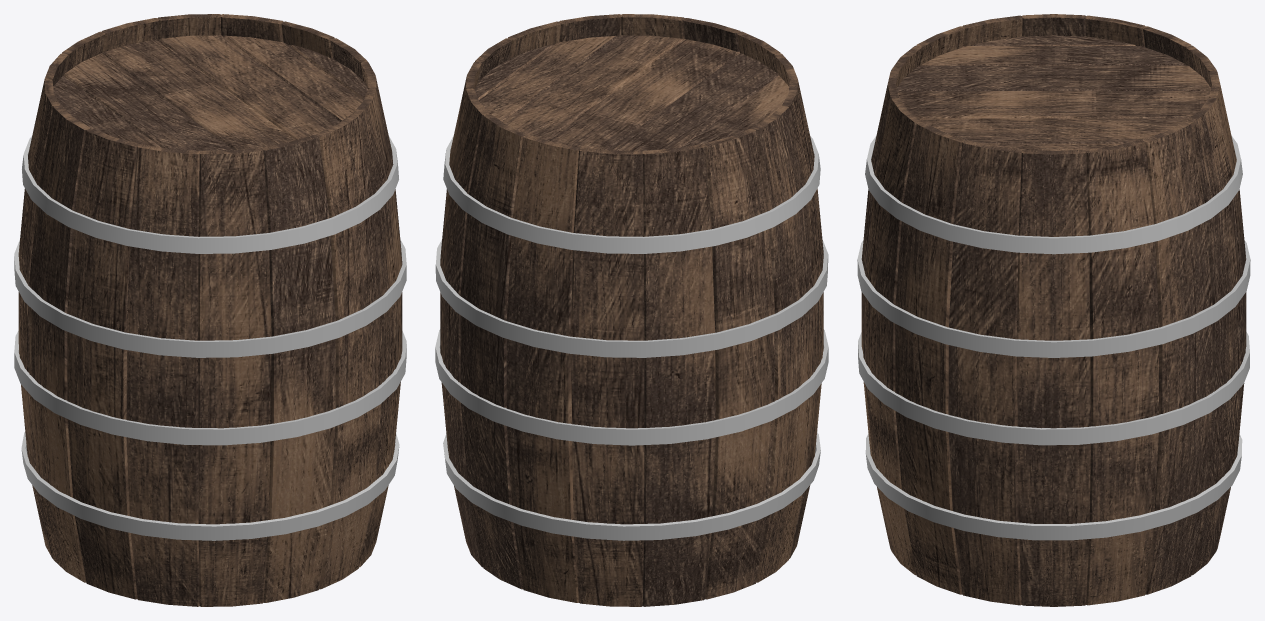
Rendered from Blender_Barrel_Model_Only.fbx.
3 views of the same model, side by side, from view 1: azimuth 30°, elevation 25°; view 2: azimuth 150°, elevation 25°; view 3: azimuth 270°, elevation 25° (orthographic).
Parts seen in each view (by area): view 1: BarrelBody.002, BarrelBody.003, BarrelBody.001, BarrelBody.004, BarrelBody.016, BarrelBody.005, BarrelLidTop.004, BarrelBody.015, BarrelHoop.002, BarrelHoop.003, BarrelHoop.001, BarrelHoop.004 (+13 smaller); view 2: BarrelBody.008, BarrelBody.007, BarrelBody.009, BarrelBody.006, BarrelBody.010, BarrelBody.005, BarrelLidTop.004, BarrelBody.011, BarrelHoop.002, BarrelHoop.003, BarrelHoop.001, BarrelHoop.004 (+13 smaller); view 3: BarrelBody.013, BarrelBody.014, BarrelBody.012, BarrelBody.015, BarrelBody.011, BarrelBody.010, BarrelBody.016, BarrelLidTop.004, BarrelLidTop.005, BarrelHoop.002, BarrelHoop.001, BarrelHoop.003 (+14 smaller).
Part boxes in pixels (x1,y1,x2,y2): BarrelBody.002: (198,147,271,606); BarrelBody.003: (126,144,199,606); BarrelBody.001: (262,135,335,602); BarrelBody.004: (67,128,139,599); BarrelBody.016: (316,114,381,589); BarrelBody.005: (29,106,90,582); BarrelLidTop.004: (102,39,295,149); BarrelBody.015: (353,88,401,567); BarrelHoop.002: (14,239,406,357); BarrelHoop.003: (14,331,406,445); BarrelHoop.001: (22,136,398,253); BarrelHoop.004: (21,431,399,540); BarrelBody.008: (570,147,644,606); BarrelBody.007: (642,144,715,606); BarrelBody.009: (506,135,580,602); BarrelBody.006: (703,128,774,599); BarrelBody.010: (460,114,526,589); BarrelBody.005: (752,106,813,582); BarrelLidTop.004: (547,39,739,149); BarrelBody.011: (440,88,489,567); BarrelHoop.002: (435,239,828,357); BarrelHoop.003: (435,329,828,445); BarrelHoop.001: (443,136,820,253); BarrelHoop.004: (443,432,820,540); BarrelBody.013: (1017,150,1090,606); BarrelBody.014: (948,140,1022,605); BarrelBody.012: (1085,140,1159,605); BarrelBody.015: (895,122,964,594); BarrelBody.011: (1143,122,1212,594); BarrelBody.010: (1186,97,1241,575); BarrelBody.016: (866,97,921,575); BarrelLidTop.004: (897,91,1210,118); BarrelLidTop.005: (897,65,1210,90); BarrelHoop.002: (857,240,1250,357); BarrelHoop.001: (865,136,1242,254); BarrelHoop.003: (858,332,1249,445).
Size of the model in its own units: 70.87 by 90 by 70.87.
